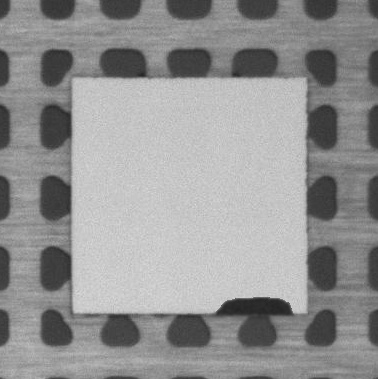DIE_BROKEN: (212, 295, 295, 317)
